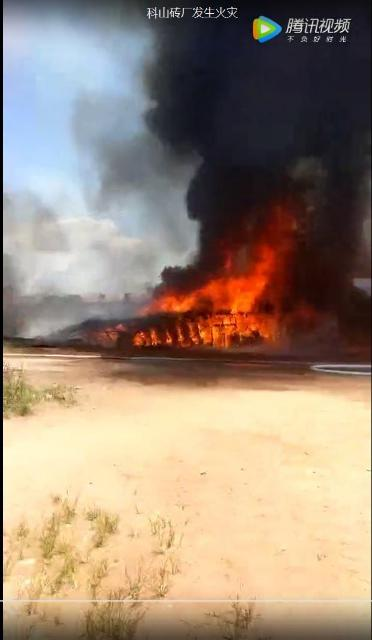fire: (196, 314, 251, 346), (210, 278, 253, 308), (250, 242, 270, 286), (196, 277, 224, 301), (253, 314, 280, 338), (146, 294, 179, 312), (185, 319, 197, 347), (180, 293, 194, 313), (131, 330, 151, 344), (172, 323, 182, 345), (162, 326, 172, 344)
